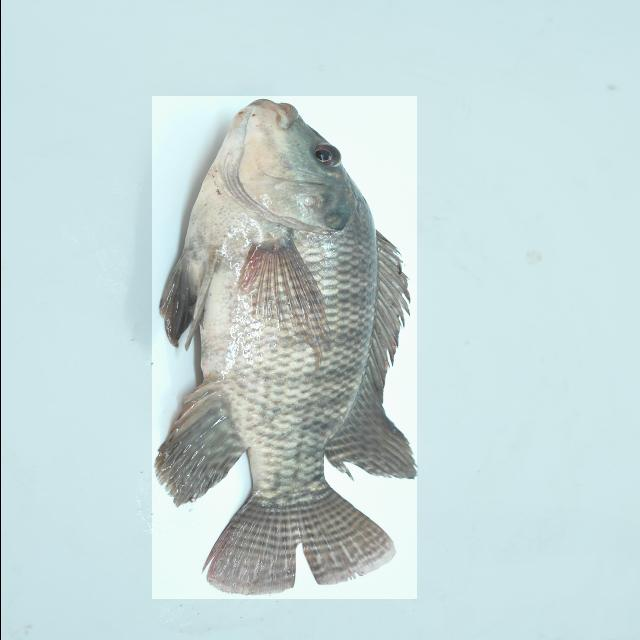Healthy Fish: (151, 96, 416, 599)
